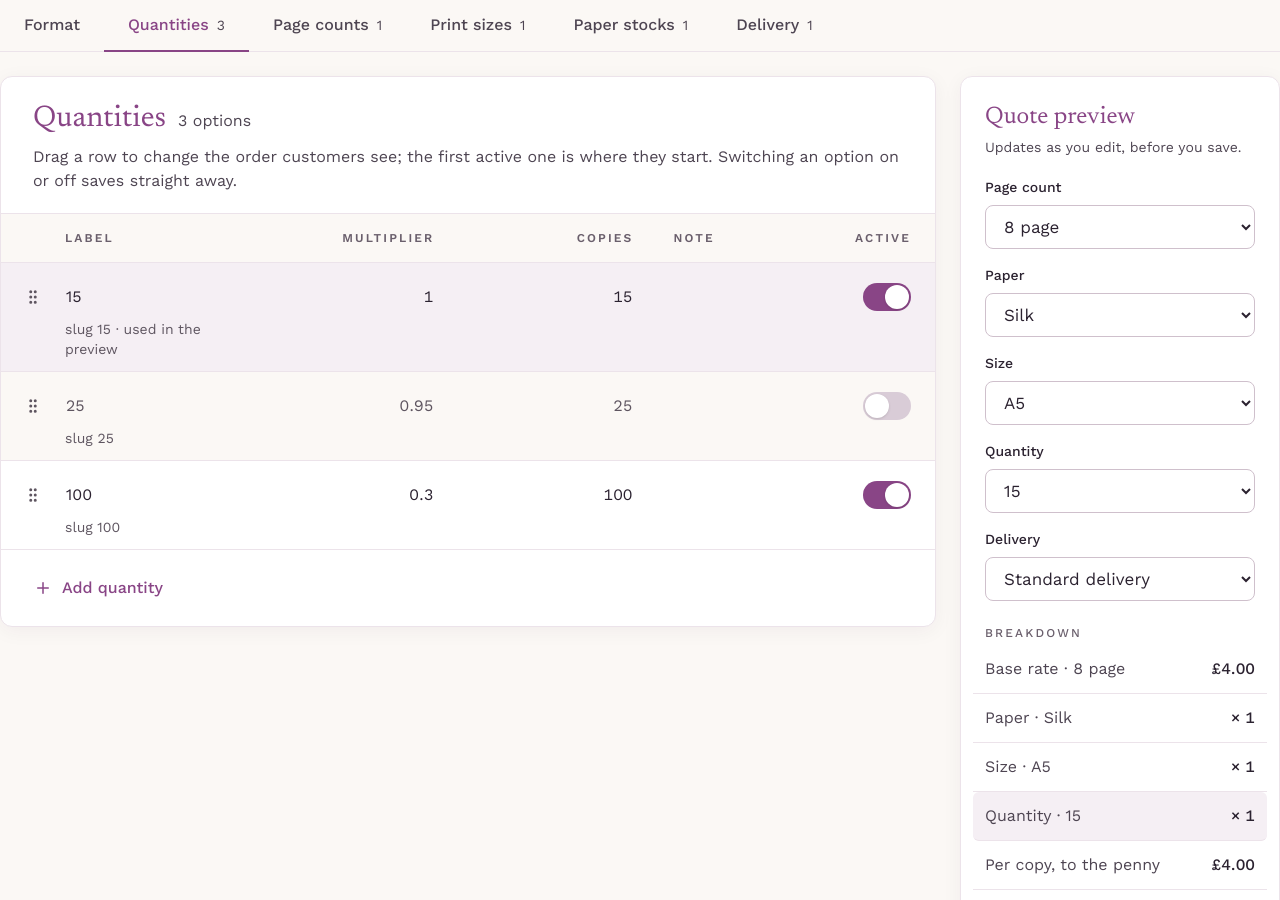
it: AdminPricingEditor › doesn't send a value that won't parse
The width and height of the screenshot is (1280, 900).
Replace the text in the field named "Copies for 15" with "fifteen": (554, 297) left=462, top=275, right=646, bottom=319
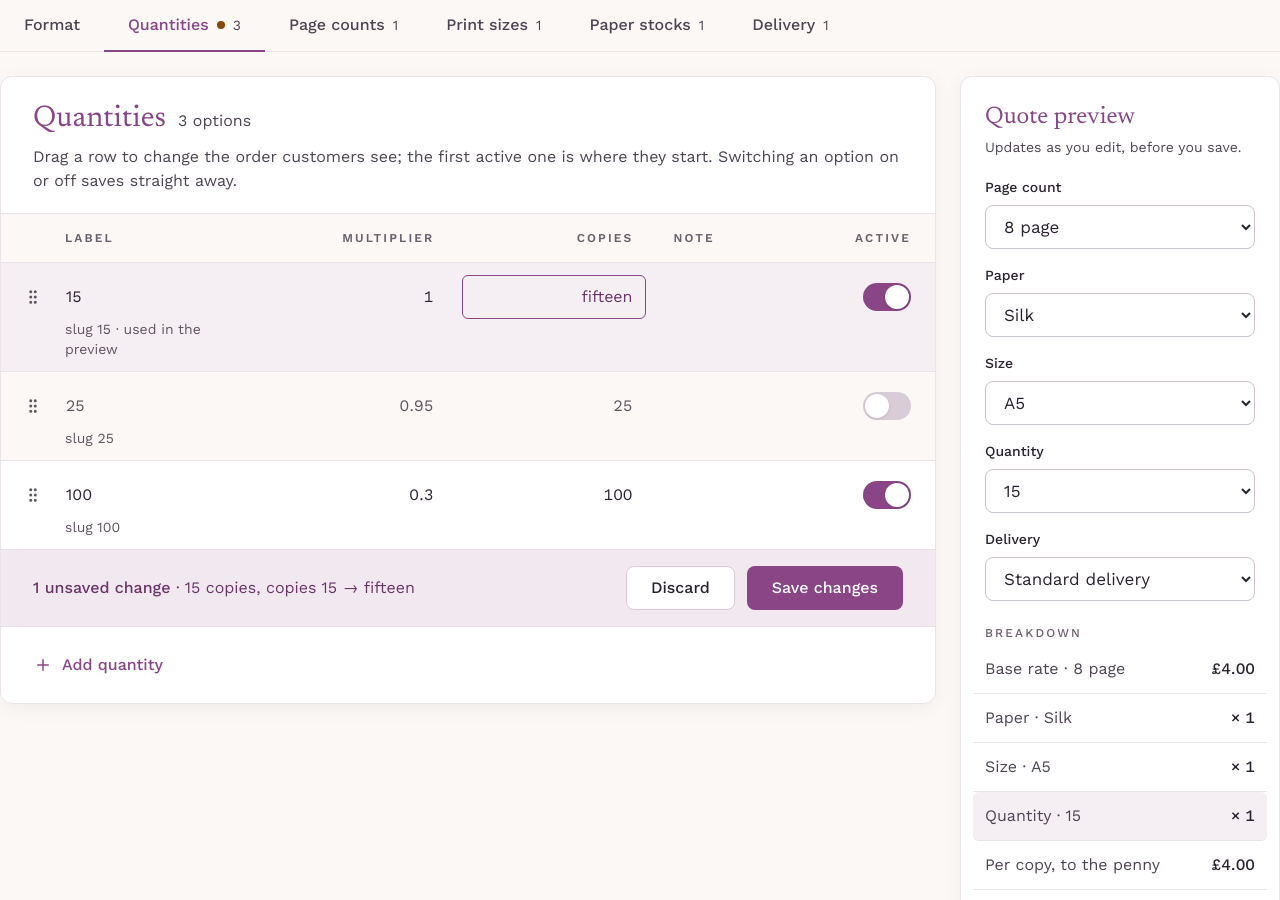
Click the button "Save changes": (825, 588) left=747, top=566, right=903, bottom=610
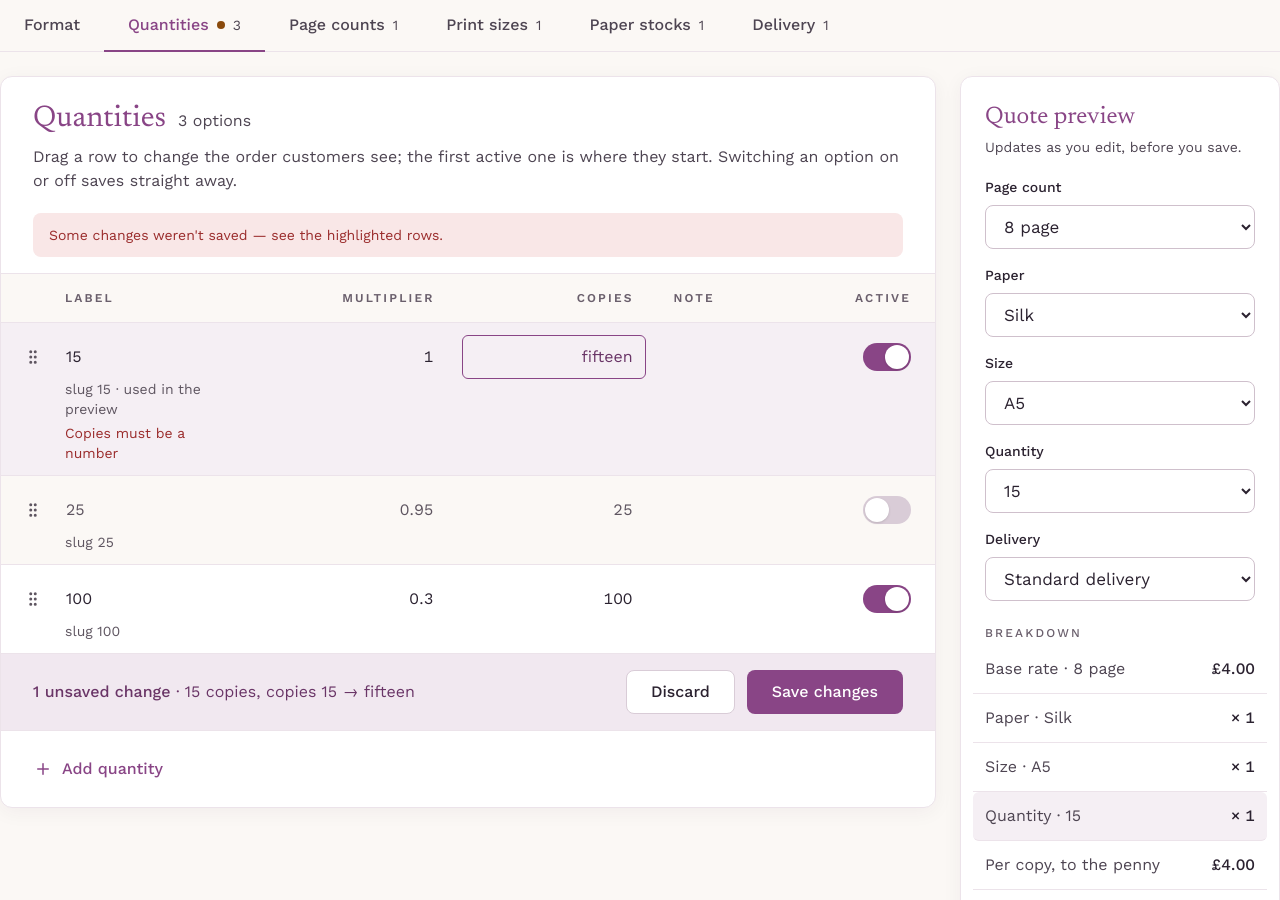
Expected: the text "Copies must be a number" is shown, left=65, top=425, right=185, bottom=461
